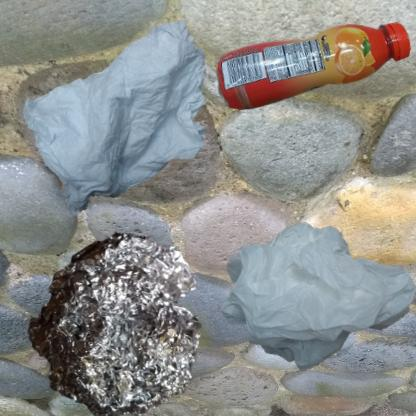aluminio: (10, 213, 231, 416)
bolsa: (213, 213, 416, 388)
botella: (213, 10, 416, 125)
papel: (10, 10, 281, 250)
